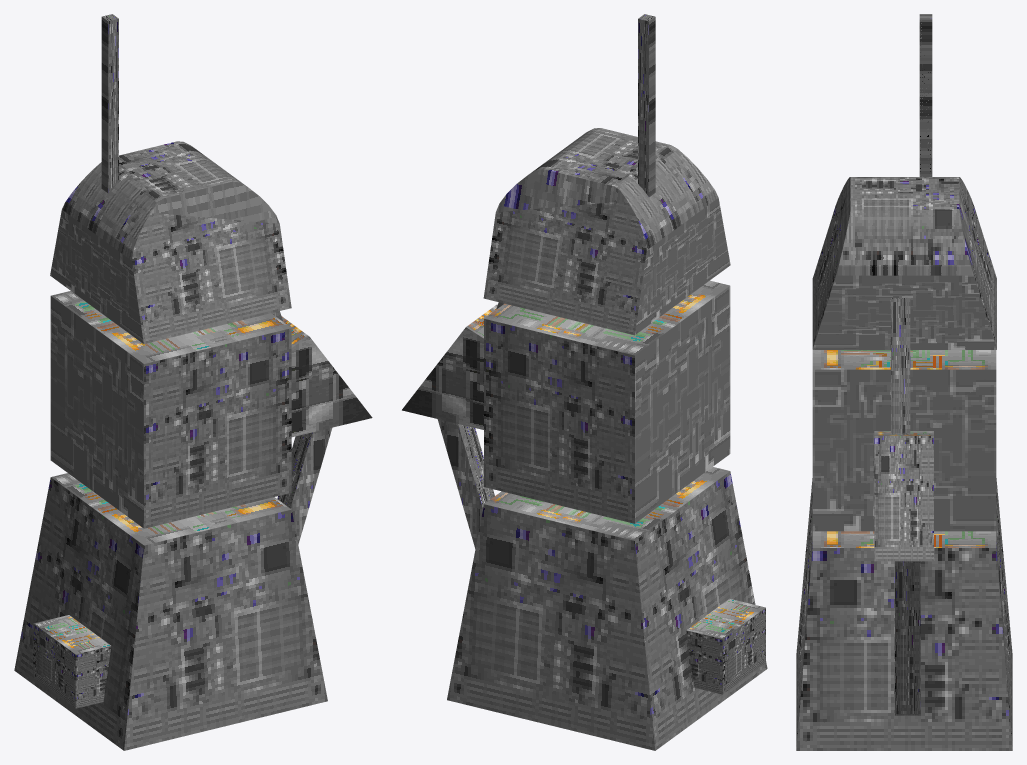
File: com.obj
3 renders of one model, left to right at view 1: azimuth 30°, elevation 25°; view 2: azimuth 150°, elevation 25°; view 3: azimuth 270°, elevation 25°, orthographic. The views are drawn at different scales.
Size of the model in its own units: 6.47 by 13.34 by 3.95.
Materials: 4 (4 with a texture image).
